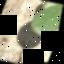Purslane: (2, 0, 64, 64)
